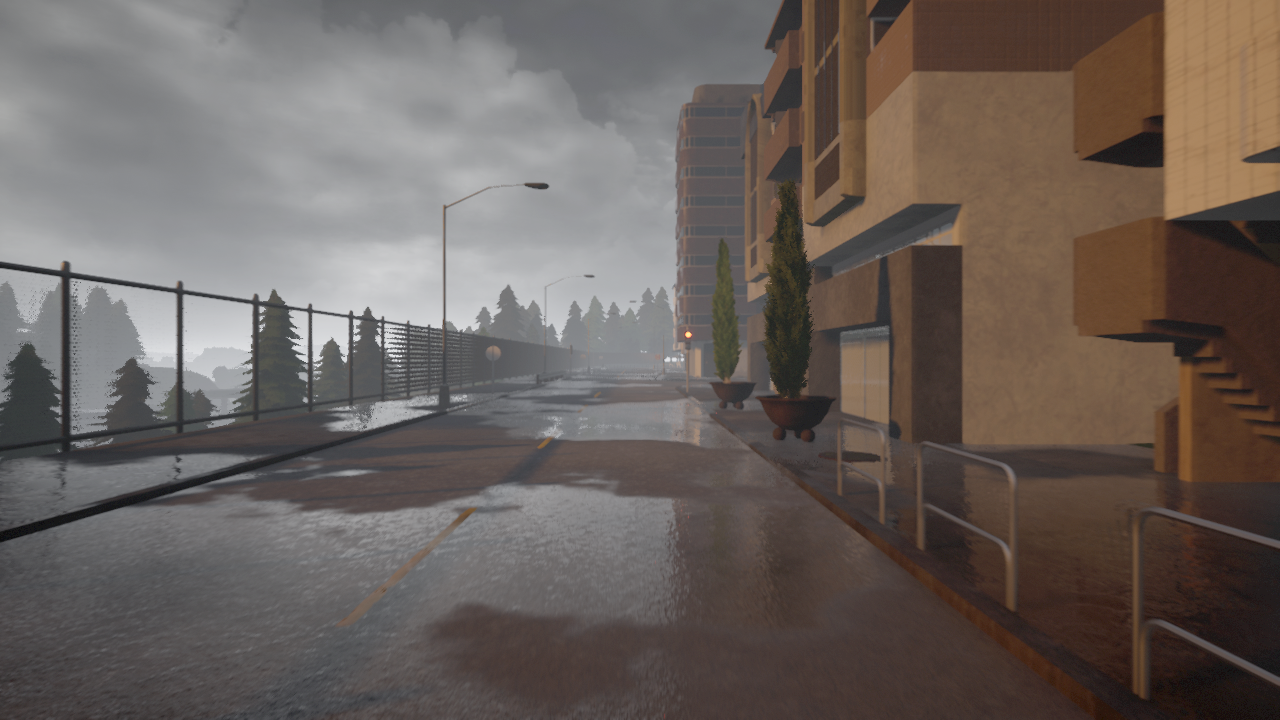red: (684, 330, 693, 351)
